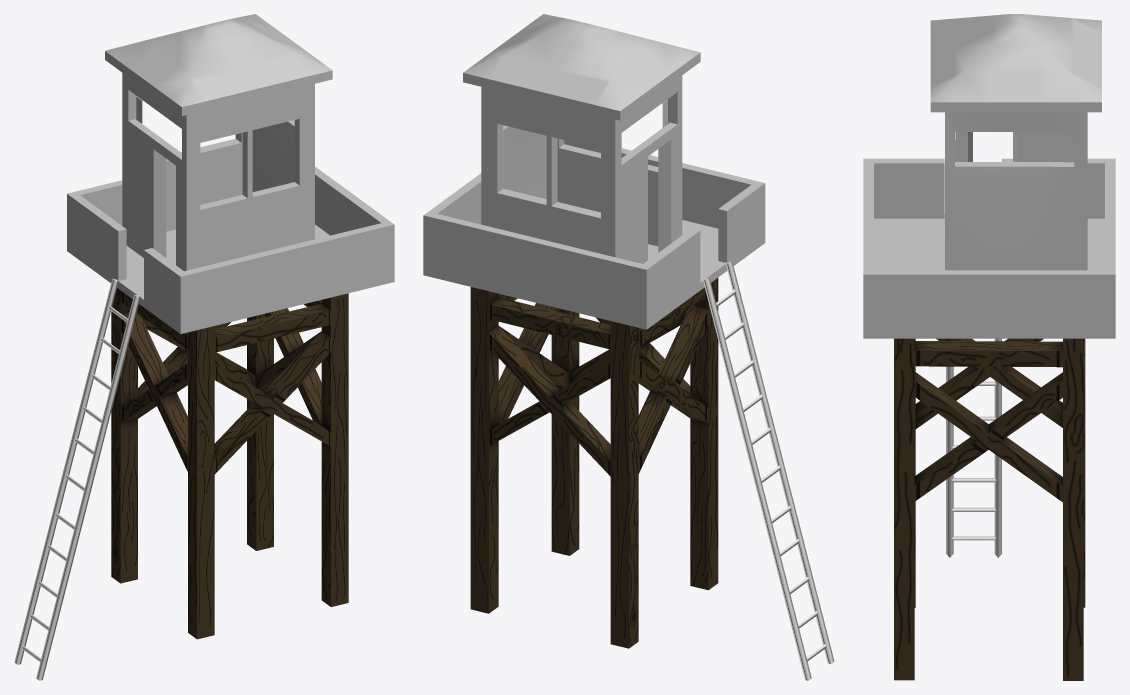
The model's file is TorreControl.FBX.
3 views of the same model, side by side, from view 1: azimuth 30°, elevation 25°; view 2: azimuth 150°, elevation 25°; view 3: azimuth 270°, elevation 25° (orthographic). The views are drawn at different scales.
Visible parts, largest first — view 1: caseta, Box005, Escalera; view 2: caseta, Box005, Escalera; view 3: caseta, Box005, Escalera.
Boxes of the visible parts, x1=… form: caseta: x1=67, y1=14, x2=394, y2=334; Box005: x1=111, y1=288, x2=348, y2=639; Escalera: x1=14, y1=278, x2=140, y2=680; caseta: x1=423, y1=14, x2=765, y2=329; Box005: x1=470, y1=278, x2=718, y2=648; Escalera: x1=702, y1=261, x2=834, y2=680; caseta: x1=863, y1=14, x2=1115, y2=338; Box005: x1=894, y1=338, x2=1085, y2=680; Escalera: x1=946, y1=338, x2=1001, y2=557.
Bounding box in the file's own units: 276 × 485 × 171.
